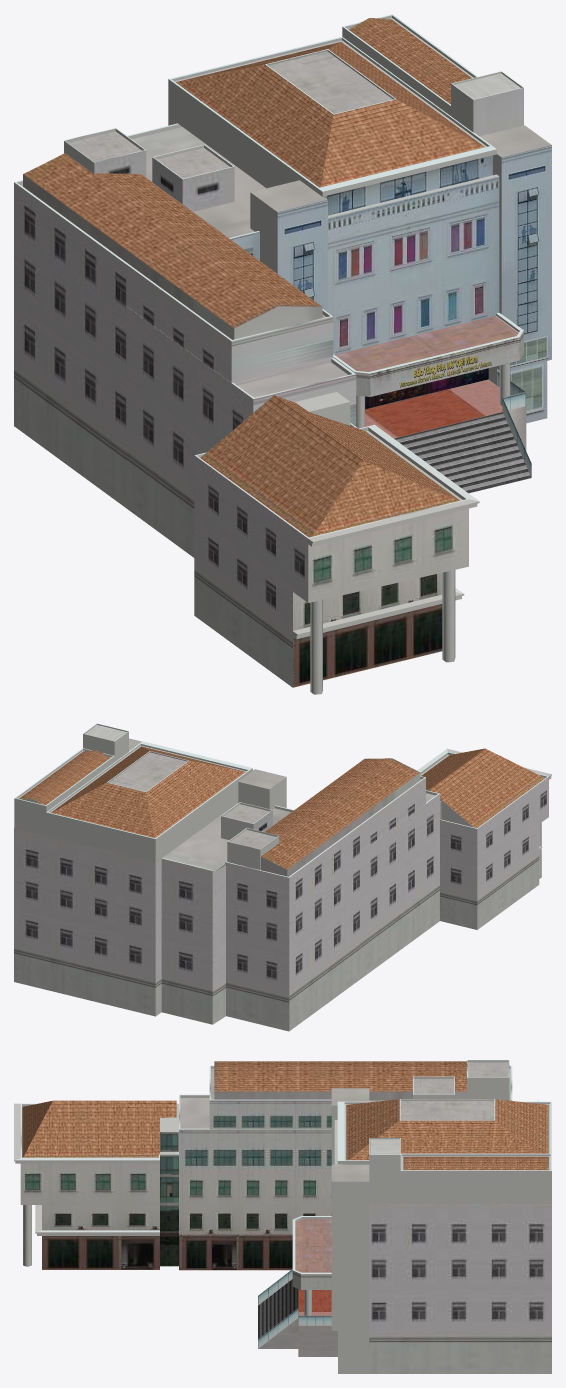
The picture shows the model from 3 angles, top to bottom: view 1: azimuth 30°, elevation 25°; view 2: azimuth 150°, elevation 25°; view 3: azimuth 270°, elevation 25°; orthographic projection. The views are drawn at different scales.
Parts seen in each view (by area): view 1: HN663_BaoTangPhuNuVietNam; view 2: HN663_BaoTangPhuNuVietNam; view 3: HN663_BaoTangPhuNuVietNam.
Boxes of the visible parts, bbox=[...] form: HN663_BaoTangPhuNuVietNam: bbox=[14, 14, 551, 694]; HN663_BaoTangPhuNuVietNam: bbox=[14, 723, 551, 1031]; HN663_BaoTangPhuNuVietNam: bbox=[14, 1060, 551, 1373].
Size of the model in its own units: 38.17 by 24.53 by 54.7.
Materials: 1 (1 with a texture image).
